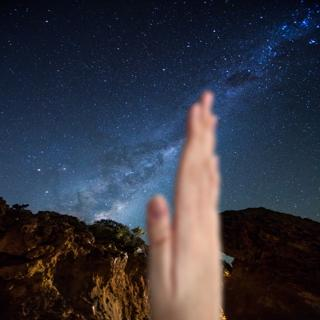Right: (128, 89, 237, 315)
